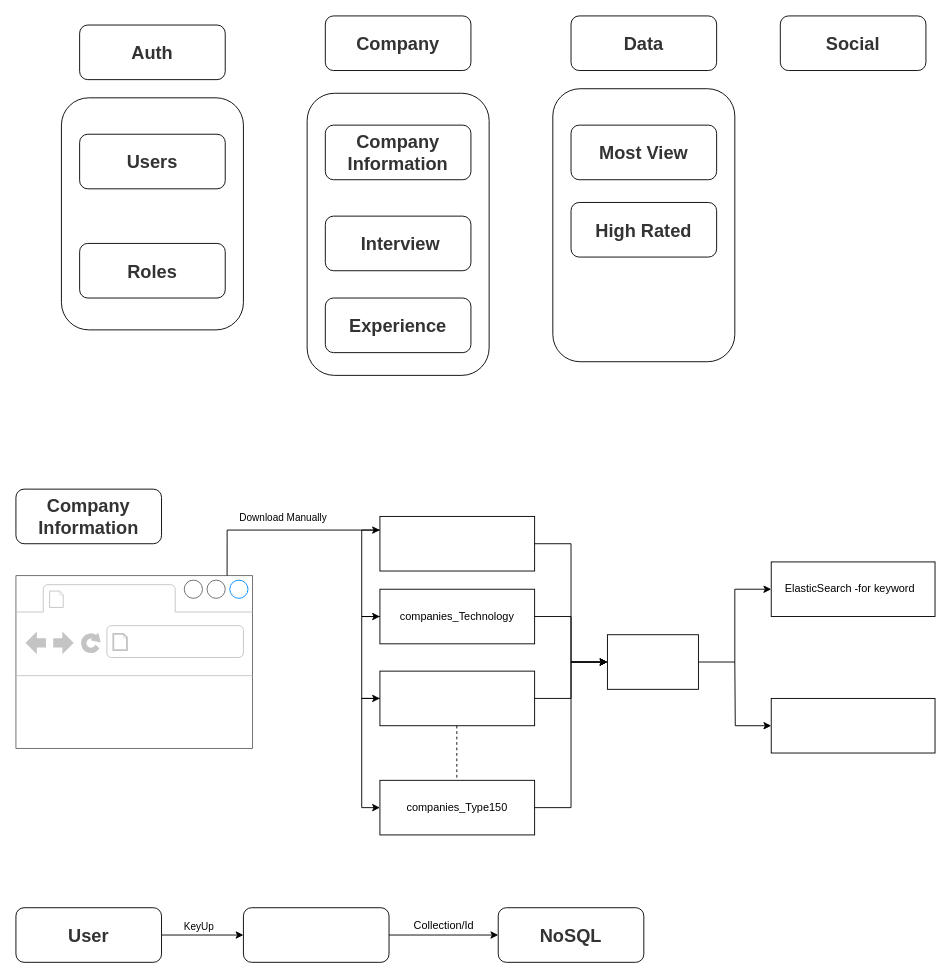
Some shapes in this 951 by 978 pixel diagram are drawn without their labels. Each missing label, with the box of its shape:
companies_StudyAbroad: (379, 516, 535, 571)
companies_Type3: (379, 670, 535, 726)
ElasticSearch: (243, 907, 389, 962)
MongoDB -store company detail and career data: (770, 698, 935, 753)
Page 1: (70, 586, 171, 610)
Python: (607, 634, 698, 689)
